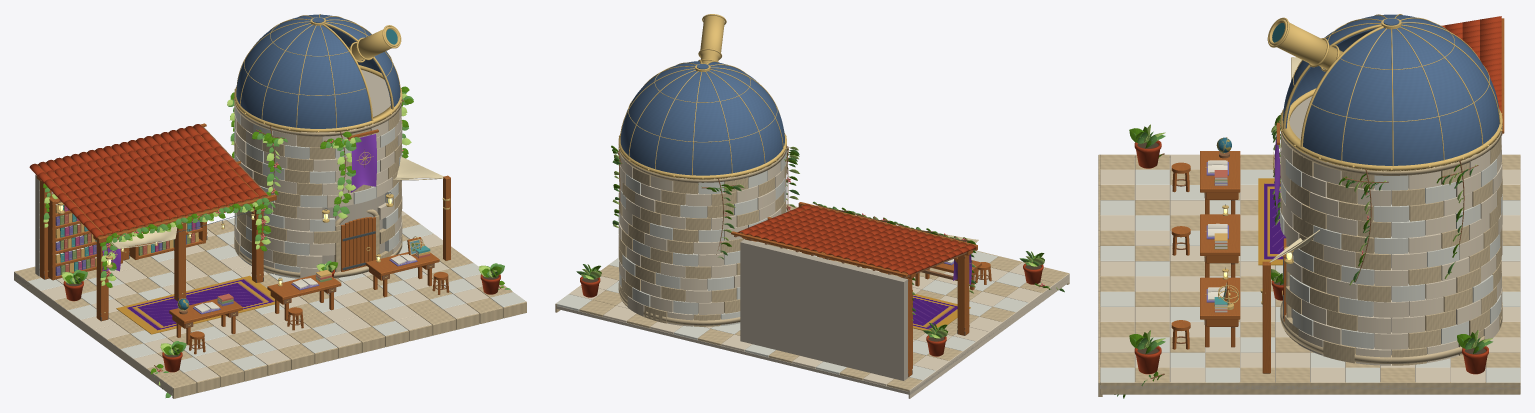
File: archive-v1-r1.glb
3 renders of one model, left to right at view 1: azimuth 30°, elevation 25°; view 2: azimuth 150°, elevation 25°; view 3: azimuth 270°, elevation 25°, orthographic. The views are drawn at different scales.
Visible parts, largest first — view 1: Archive_Dome_Thick_Open_Observation_Shell, Archive_Library_Ornamental_Violet_Rug, Archive_Tower_Recessed_Stone_Core, Archive_Platea_West_Cut_Stone_Edge, Archive_Tower_Violet_Compass_Standard_Violet_Closed_Cloth, Archive_Tower_Dome_Brass_Rotation_Track, Archive_Telescope_Hollow_Brass_Optical_Tube, Archive_archive-post-front-1, Archive_education-1_Consultation_Desk_Worksurface, Archive_education-2_Consultation_Desk_Worksurface, Archive_education-0_Consultation_Desk_Worksurface, Archive_archive-post-front-0 (+10 smaller); view 2: Archive_Library_Backwall_Mortar, Archive_Dome_Thick_Open_Observation_Shell, Archive_Platea_Supported_Stone_Substrate, Archive_Platea_West_Cut_Stone_Edge, Archive_Library_Ornamental_Violet_Rug, Archive_archive-post-front-0, Archive_Telescope_Hollow_Brass_Optical_Tube, Archive_Tower_Dome_Brass_Rotation_Track, Archive_Tower_Upper_Stone_Cornice, Archive_Roof_Transverse_Batten_6.38, Archive_Tower_Base_Plinth, Archive_archive-post-back-0; view 3: Archive_Dome_Thick_Open_Observation_Shell, Archive_Platea_East_Cut_Stone_Edge, Archive_Platea_Supported_Stone_Substrate, Archive_Library_Ornamental_Violet_Rug, Archive_Tower_Dome_Brass_Rotation_Track, Archive_Telescope_Hollow_Brass_Optical_Tube, Archive_education-1_Consultation_Desk_Worksurface, Archive_education-2_Consultation_Desk_Worksurface, Archive_education-0_Consultation_Desk_Worksurface, Archive_Tower_Upper_Stone_Cornice, Archive_Tower_Base_Plinth, Archive_archive-awning-right-post (+130 smaller).
Boxes of the visible parts, x1=… form: Archive_Dome_Thick_Open_Observation_Shell: x1=236, y1=14, x2=400, y2=128; Archive_Library_Ornamental_Violet_Rug: x1=116, y1=275, x2=279, y2=334; Archive_Tower_Recessed_Stone_Core: x1=309, y1=69, x2=390, y2=269; Archive_Platea_West_Cut_Stone_Edge: x1=14, y1=271, x2=172, y2=396; Archive_Tower_Violet_Compass_Standard_Violet_Closed_Cloth: x1=351, y1=134, x2=376, y2=192; Archive_Tower_Dome_Brass_Rotation_Track: x1=234, y1=65, x2=402, y2=132; Archive_Telescope_Hollow_Brass_Optical_Tube: x1=348, y1=26, x2=400, y2=62; Archive_archive-post-front-1: x1=174, y1=222, x2=185, y2=301; Archive_education-1_Consultation_Desk_Worksurface: x1=267, y1=274, x2=341, y2=300; Archive_education-2_Consultation_Desk_Worksurface: x1=365, y1=252, x2=439, y2=276; Archive_education-0_Consultation_Desk_Worksurface: x1=169, y1=299, x2=242, y2=324; Archive_archive-post-front-0: x1=96, y1=241, x2=108, y2=321; Archive_Library_Backwall_Mortar: x1=740, y1=239, x2=907, y2=380; Archive_Dome_Thick_Open_Observation_Shell: x1=620, y1=61, x2=784, y2=175; Archive_Platea_Supported_Stone_Substrate: x1=555, y1=278, x2=1068, y2=394; Archive_Platea_West_Cut_Stone_Edge: x1=908, y1=274, x2=1069, y2=398; Archive_Library_Ornamental_Violet_Rug: x1=913, y1=294, x2=970, y2=331; Archive_archive-post-front-0: x1=957, y1=254, x2=969, y2=335; Archive_Telescope_Hollow_Brass_Optical_Tube: x1=699, y1=15, x2=724, y2=63; Archive_Tower_Dome_Brass_Rotation_Track: x1=618, y1=132, x2=786, y2=179; Archive_Tower_Upper_Stone_Cornice: x1=618, y1=147, x2=786, y2=183; Archive_Roof_Transverse_Batten_6.38: x1=731, y1=231, x2=907, y2=276; Archive_Tower_Base_Plinth: x1=618, y1=281, x2=740, y2=325; Archive_archive-post-back-0: x1=901, y1=276, x2=912, y2=376; Archive_Dome_Thick_Open_Observation_Shell: x1=1282, y1=14, x2=1499, y2=165; Archive_Platea_East_Cut_Stone_Edge: x1=1100, y1=382, x2=1520, y2=394; Archive_Platea_Supported_Stone_Substrate: x1=1100, y1=158, x2=1520, y2=389; Archive_Library_Ornamental_Violet_Rug: x1=1258, y1=178, x2=1285, y2=265; Archive_Tower_Dome_Brass_Rotation_Track: x1=1280, y1=88, x2=1502, y2=171; Archive_Telescope_Hollow_Brass_Optical_Tube: x1=1268, y1=19, x2=1342, y2=69; Archive_education-1_Consultation_Desk_Worksurface: x1=1200, y1=214, x2=1240, y2=255; Archive_education-2_Consultation_Desk_Worksurface: x1=1200, y1=277, x2=1240, y2=319; Archive_education-0_Consultation_Desk_Worksurface: x1=1200, y1=151, x2=1240, y2=192; Archive_Tower_Upper_Stone_Cornice: x1=1280, y1=125, x2=1502, y2=175; Archive_Tower_Base_Plinth: x1=1280, y1=301, x2=1501, y2=363; Archive_archive-awning-right-post: x1=1262, y1=261, x2=1270, y2=373.
Size of the model in its own units: 18.16 by 12.42 by 14.06.
29 materials, 8 textured.
